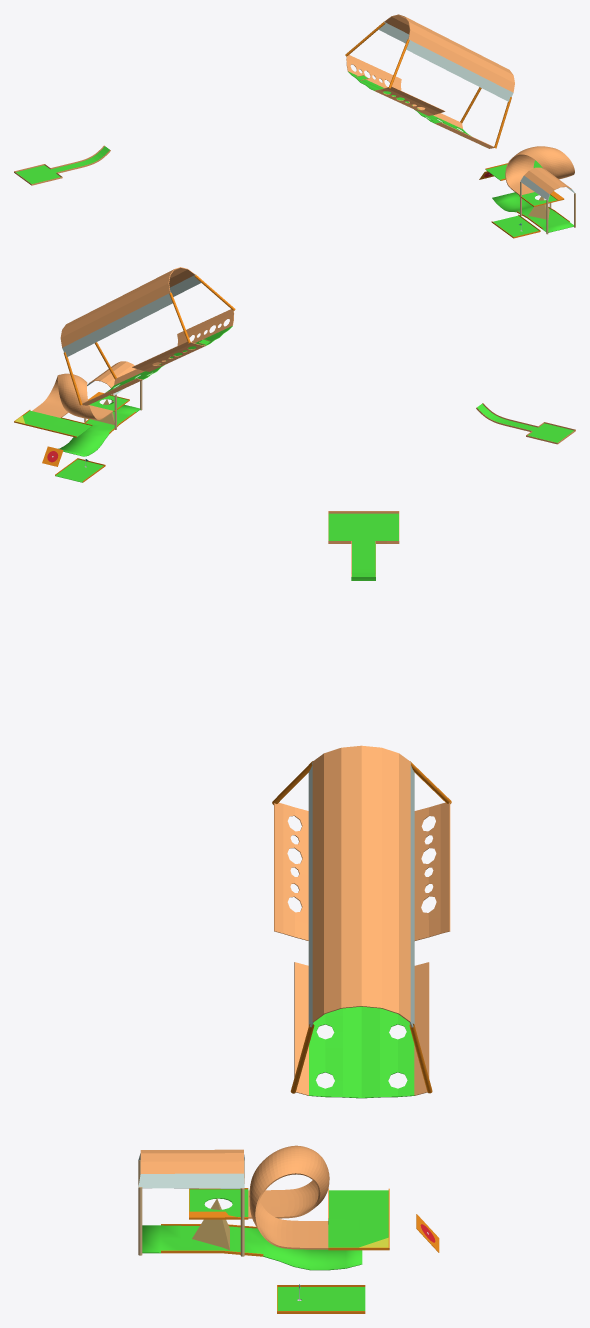
File: m-golf-holes-004.glb
3 views of the same model, one above another, from view 1: azimuth 30°, elevation 25°; view 2: azimuth 150°, elevation 25°; view 3: azimuth 270°, elevation 25° (orthographic). The views are drawn at different scales.
Visible parts, largest first — view 1: 5_B_Roof_Visual, 5_C_Loop_Visual, 5_B_Quarter_Slope_Polar_Spring_Visual, 5_D_End_Section_Visual, 5_D_Roof_Visual, 5_B_Quarter_Slope_2_Polar_Spring_Visual, 5_E_End_Visual, 5_A_Start_Pad_Visual, 5_A_Start_Jump_Visual; view 2: 5_B_Roof_Visual, 5_C_Loop_Visual, 5_B_Quarter_Slope_Polar_Spring_Visual, 5_D_End_Section_Visual, 5_C_Turn_Track_A1_Visual, 5_E_End_Visual, 5_B_Quarter_Slope_2_Polar_Spring_Visual, 5_A_Start_Pad_Visual, 5_D_Roof_Visual, 5_A_Start_Jump_Visual, 5_C_X_It_H_Visual, 5_E_Bounce_Wall_Visual; view 3: 5_B_Roof_Visual, 5_B_Quarter_Slope_2_Polar_Spring_Visual, 5_B_Quarter_Slope_Polar_Spring_Visual, 5_C_Loop_Visual, 5_D_End_Section_Visual, 5_D_Roof_Visual, 5_C_Turn_Track_A1_Visual, 5_E_End_Visual, 5_A_Start_Pad_Visual, 5_C_X_It_H_Visual.
Boxes of the visible parts, <box> form: 5_B_Roof_Visual: <box>378,14,514,101</box>; 5_C_Loop_Visual: <box>505,146,574,195</box>; 5_B_Quarter_Slope_Polar_Spring_Visual: <box>346,55,445,115</box>; 5_D_End_Section_Visual: <box>492,192,573,232</box>; 5_D_Roof_Visual: <box>520,167,575,200</box>; 5_B_Quarter_Slope_2_Polar_Spring_Visual: <box>408,101,493,148</box>; 5_E_End_Visual: <box>491,214,540,238</box>; 5_A_Start_Pad_Visual: <box>14,164,62,185</box>; 5_A_Start_Jump_Visual: <box>50,145,110,173</box>; 5_B_Roof_Visual: <box>60,267,201,356</box>; 5_C_Loop_Visual: <box>32,373,113,419</box>; 5_B_Quarter_Slope_Polar_Spring_Visual: <box>132,309,234,371</box>; 5_D_End_Section_Visual: <box>58,402,140,456</box>; 5_C_Turn_Track_A1_Visual: <box>14,410,92,437</box>; 5_E_End_Visual: <box>55,458,105,482</box>; 5_B_Quarter_Slope_2_Polar_Spring_Visual: <box>82,357,169,405</box>; 5_A_Start_Pad_Visual: <box>526,422,575,444</box>; 5_D_Roof_Visual: <box>87,361,140,395</box>; 5_A_Start_Jump_Visual: <box>476,403,538,431</box>; 5_C_X_It_H_Visual: <box>88,392,129,411</box>; 5_E_Bounce_Wall_Visual: <box>42,446,63,466</box>; 5_B_Roof_Visual: <box>308,745,414,1027</box>; 5_B_Quarter_Slope_2_Polar_Spring_Visual: <box>294,962,429,1098</box>; 5_B_Quarter_Slope_Polar_Spring_Visual: <box>274,802,450,940</box>; 5_C_Loop_Visual: <box>248,1145,329,1249</box>; 5_D_End_Section_Visual: <box>142,1224,362,1270</box>; 5_D_Roof_Visual: <box>138,1149,244,1188</box>; 5_C_Turn_Track_A1_Visual: <box>328,1188,389,1250</box>; 5_E_End_Visual: <box>277,1285,365,1313</box>; 5_A_Start_Pad_Visual: <box>328,511,399,543</box>; 5_C_X_It_H_Visual: <box>189,1188,248,1219</box>.
Size of what is drawn, in the model's own units: 69.74 by 28.78 by 17.87.
Materials: 27 (1 with a texture image).
